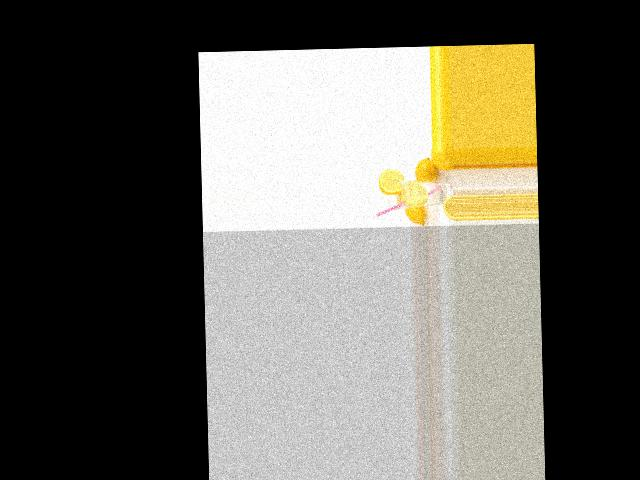lemon: (404, 200, 429, 225)
